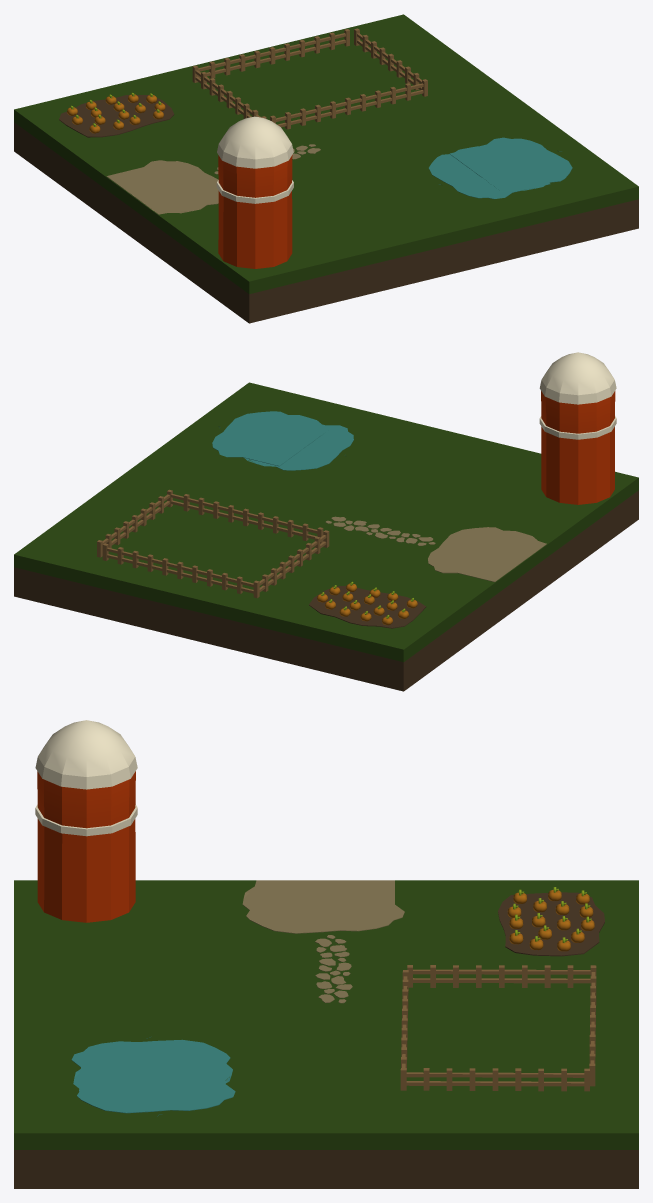
Rendered from farm.glb.
The picture shows the model from 3 angles, top to bottom: view 1: azimuth 30°, elevation 25°; view 2: azimuth 150°, elevation 25°; view 3: azimuth 270°, elevation 25°; orthographic projection. The views are drawn at different scales.
Parts seen in each view (by area): view 1: Piso, Tierra, Cilindro, Piedras, Lago, Cerca, Cerca.001, Lodo, Lago.001, Calabazas; view 2: Piso, Tierra, Cilindro, Piedras, Lago, Cerca.001, Cerca, Lodo, Lago.001, Calabazas; view 3: Piso, Tierra, Cilindro, Piedras, Lago, Lodo, Cerca, Cerca.001, Lago.001, Calabazas.
Boxes of the visible parts, x1,y1,x2,y2 form: Piso: (14, 14, 638, 294); Tierra: (14, 122, 638, 323); Cilindro: (216, 116, 293, 268); Piedras: (106, 144, 320, 214); Lago: (449, 137, 572, 191); Cerca: (270, 28, 427, 129); Cerca.001: (192, 29, 349, 118); Lodo: (59, 95, 174, 137); Lago.001: (428, 146, 550, 199); Calabazas: (67, 92, 165, 133); Piso: (14, 382, 638, 662); Tierra: (14, 490, 638, 691); Cilindro: (539, 352, 616, 504); Piedras: (325, 516, 546, 582); Lago: (212, 411, 331, 466); Cerca.001: (102, 530, 329, 598); Cerca: (97, 489, 323, 557); Lodo: (309, 585, 425, 628); Lago.001: (244, 424, 353, 470); Calabazas: (317, 581, 417, 625); Piso: (14, 880, 638, 1149); Tierra: (14, 1150, 638, 1188); Cilindro: (35, 720, 137, 922); Piedras: (242, 880, 404, 1003); Lago: (73, 1060, 235, 1116); Lodo: (498, 892, 604, 956); Cerca: (400, 970, 589, 1091); Cerca.001: (407, 965, 596, 1086); Lago.001: (71, 1036, 232, 1091); Calabazas: (507, 887, 594, 951).
Size of the model in its own units: 32.27 by 14.15 by 33.72.
